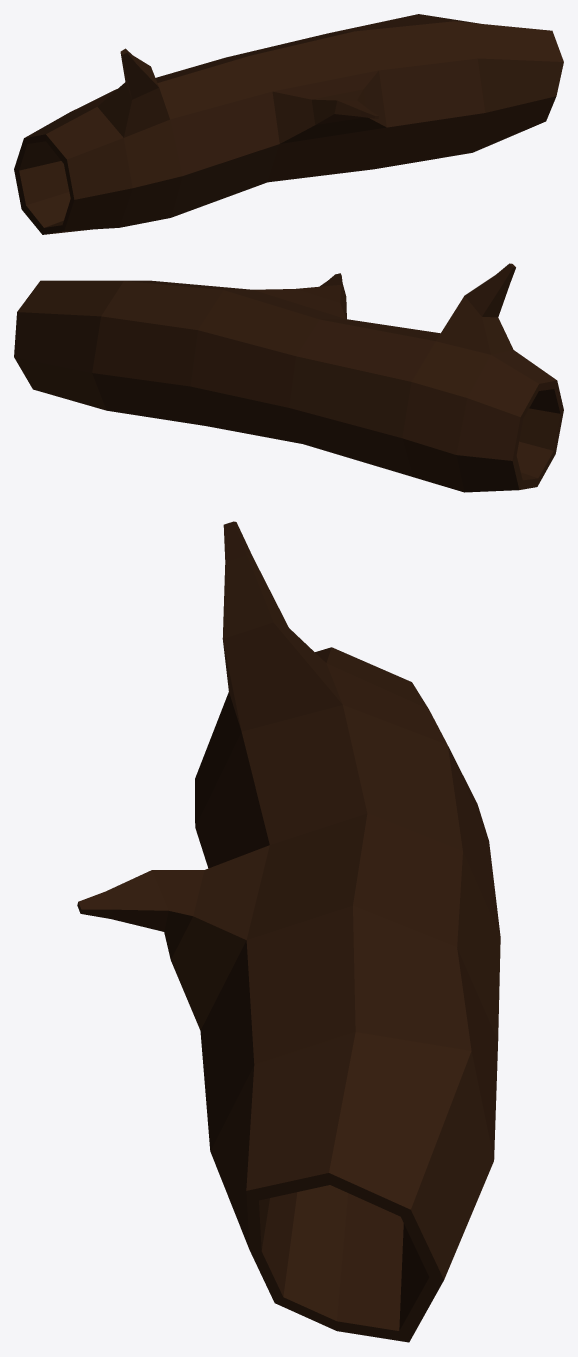
The model's file is Log02_EM.fbx.
3 views of the same model, one above another, from view 1: azimuth 30°, elevation 25°; view 2: azimuth 150°, elevation 25°; view 3: azimuth 270°, elevation 25° (orthographic). The views are drawn at different scales.
Visible parts, largest first — view 1: Log01_EM; view 2: Log01_EM; view 3: Log01_EM.
Boxes of the visible parts, x1,y1,x2,y2 form: Log01_EM: (14, 14, 563, 234); Log01_EM: (14, 263, 563, 492); Log01_EM: (77, 521, 500, 1342).
Size of the model in its own units: 386 by 154 by 140.
